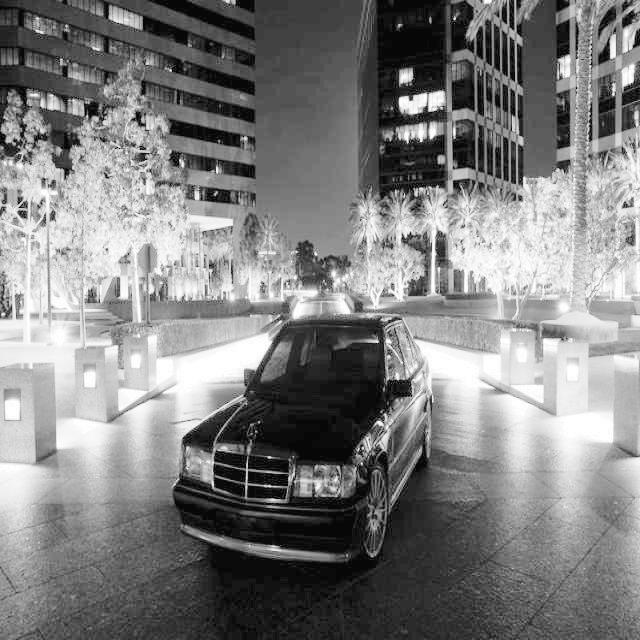Car: (169, 309, 440, 575)
Tree: (90, 58, 191, 344), (541, 0, 620, 347), (4, 100, 52, 345), (468, 210, 537, 327)
